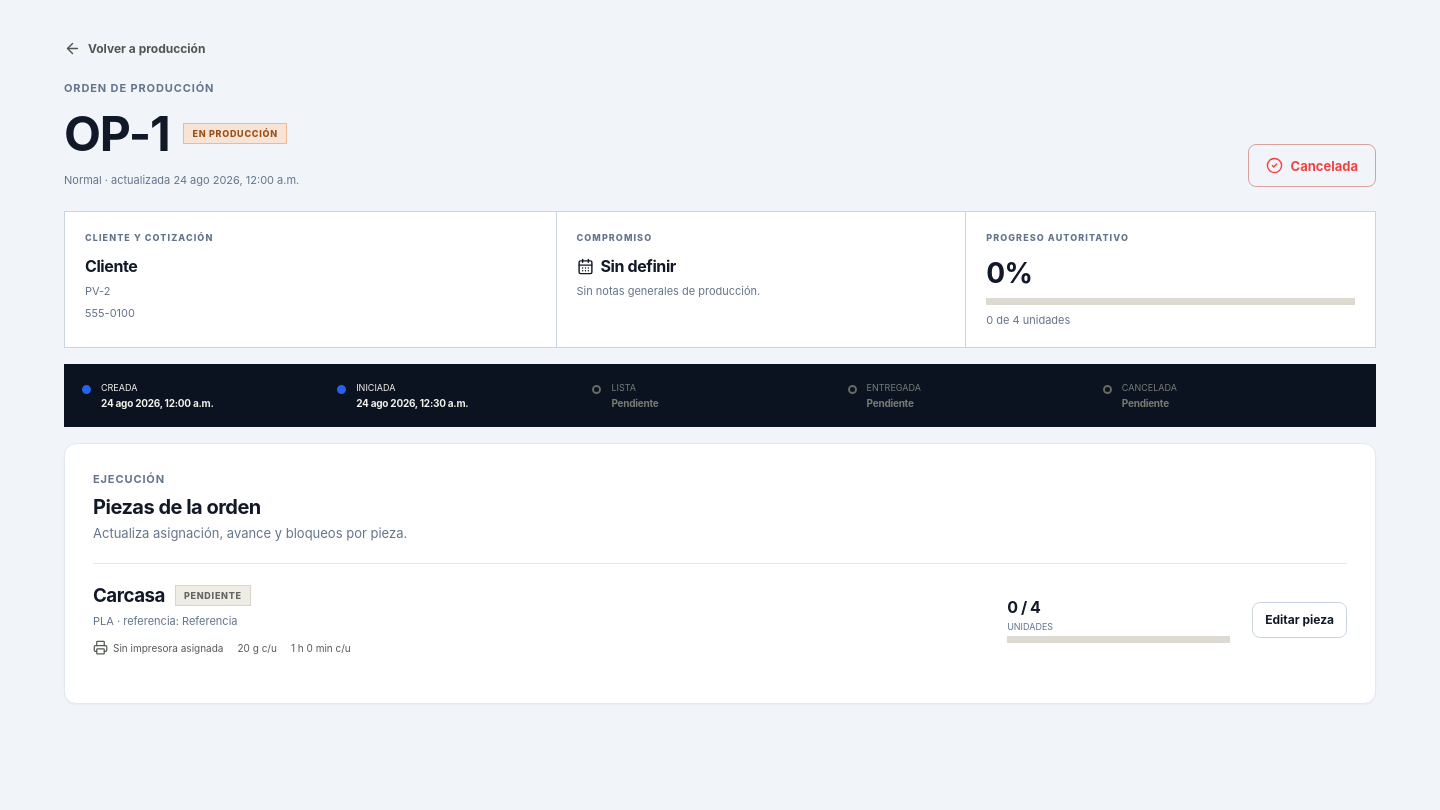
Scenario: editor de piezas de producción › recarga la orden y las impresoras cuando la pieza cambió en otra sesión
The width and height of the screenshot is (1440, 810).
Click the button "Editar pieza" at (1300, 620), box [1252,602,1347,638]
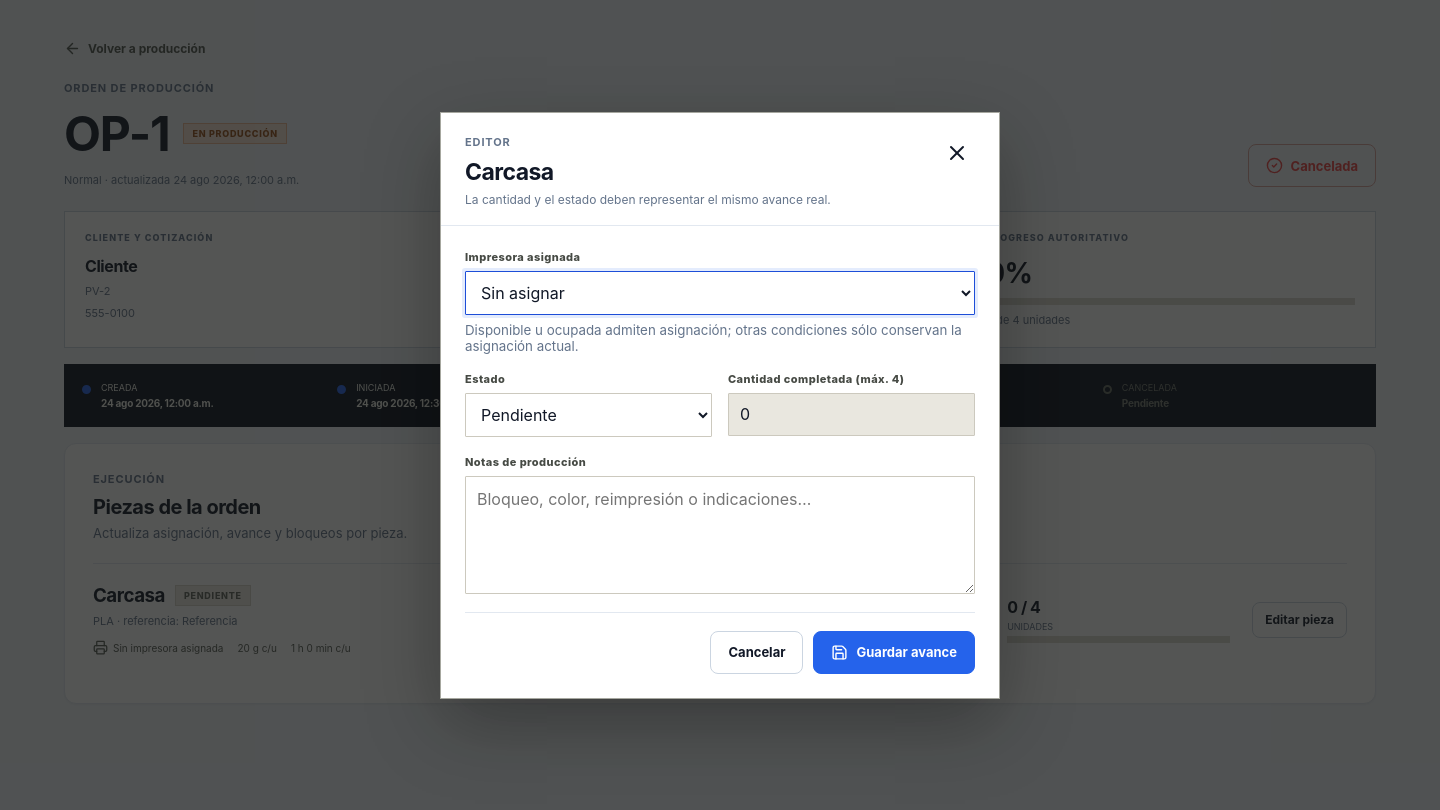
Click the button "Guardar avance" at (894, 652), box [814,630,975,674]
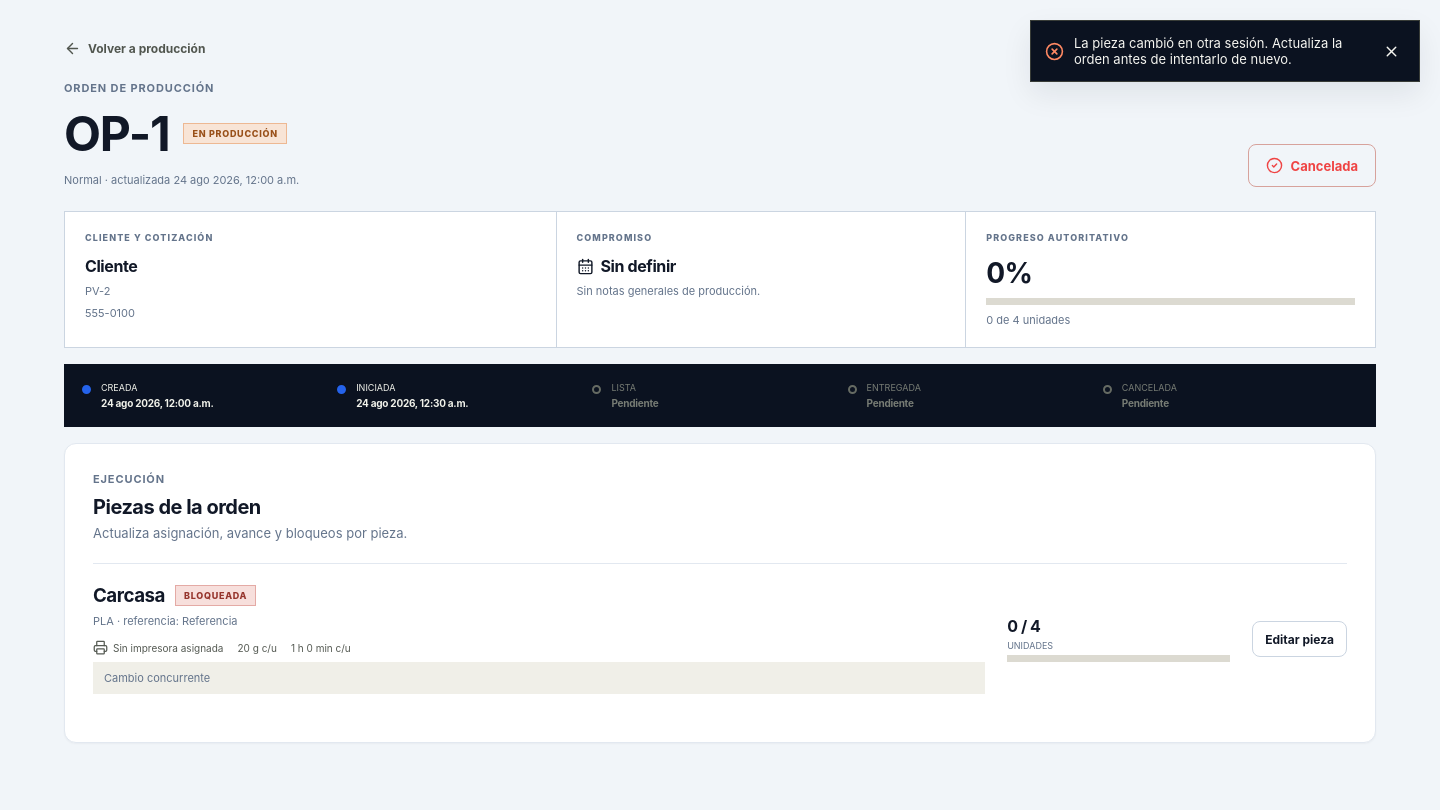
expect the dialog is gone: met
expect the text "Cambio concurrente" is shown: met, box [93,662,985,694]
expect the text "La pieza cambió en otra sesión. Actualiza la orden antes de intentarlo de nuevo." is shown: met, box [1074,35,1363,67]
